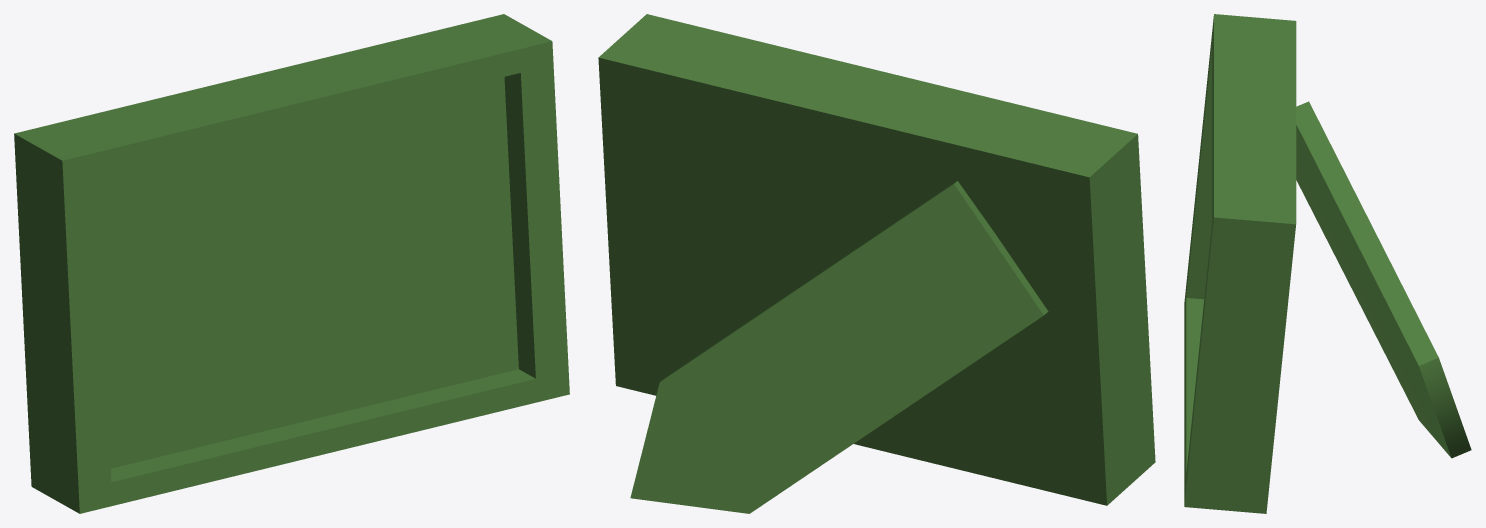
Rendered from Quadretto.fbx.
3 renders of one model, left to right at view 1: azimuth 30°, elevation 25°; view 2: azimuth 150°, elevation 25°; view 3: azimuth 270°, elevation 25°, orthographic. The views are drawn at different scales.
Parts seen in each view (by area): view 1: Quadretto_low; view 2: Quadretto_low; view 3: Quadretto_low.
Part boxes in pixels (x1,y1,x2,y2): Quadretto_low: (14,14,569,513); Quadretto_low: (598,14,1155,513); Quadretto_low: (1184,14,1471,513).
Size of the model in its own units: 65.05 by 44.32 by 38.83.
